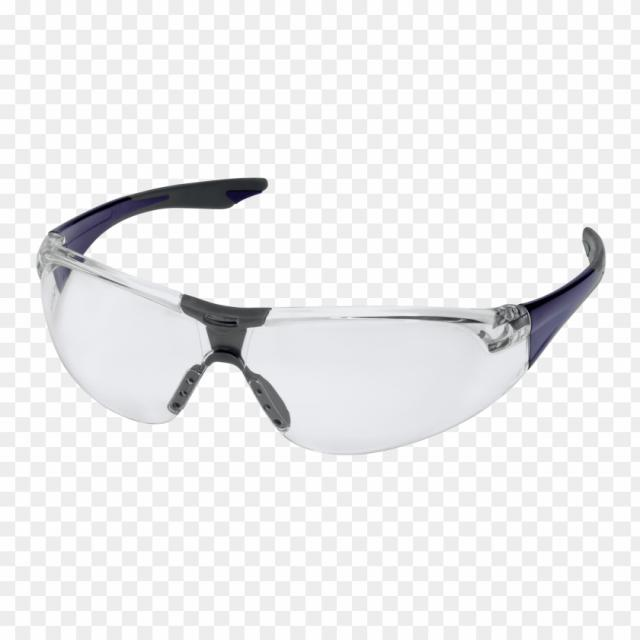Protective Glasses: (15, 116, 637, 508)
